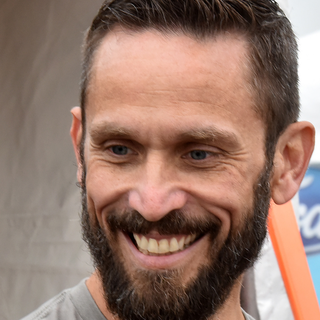eye: (175, 138, 228, 171), (94, 135, 146, 167)
